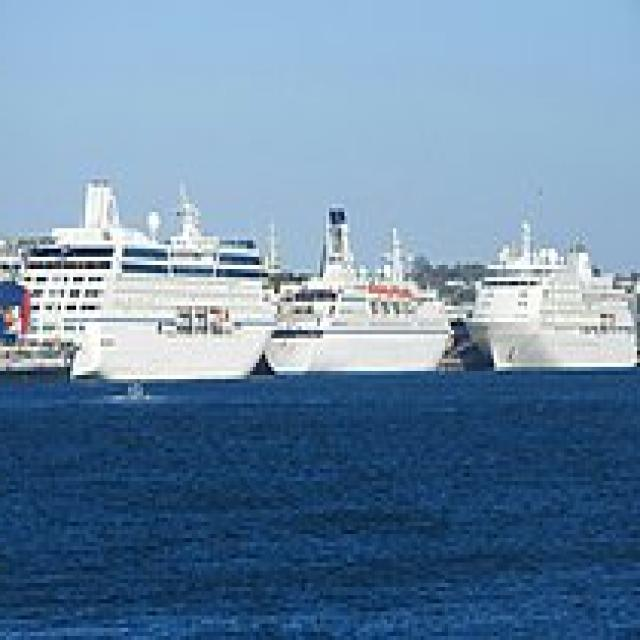Cruise: (15, 167, 284, 383), (262, 200, 460, 375), (466, 212, 640, 371)
